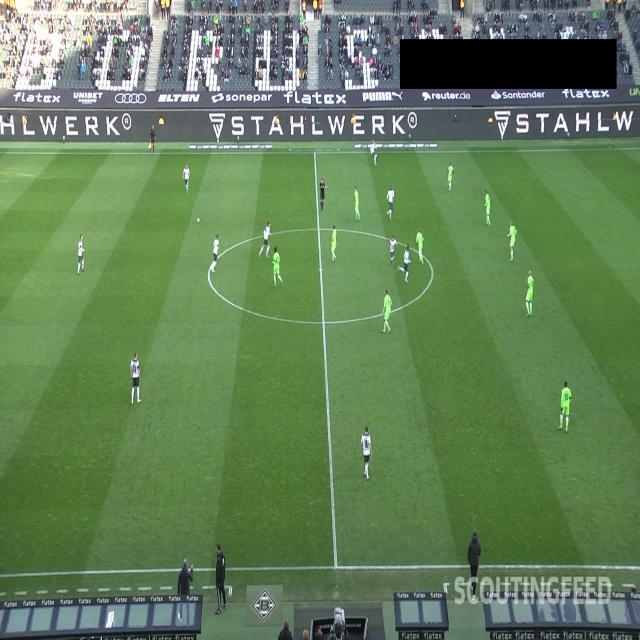ball: (196, 216, 200, 224)
player: (360, 424, 373, 481), (558, 380, 572, 432), (130, 351, 142, 405), (258, 220, 272, 260), (381, 289, 392, 334), (272, 246, 284, 287), (525, 269, 534, 318), (506, 220, 516, 262), (211, 234, 220, 272), (77, 233, 85, 274), (404, 244, 412, 283), (388, 235, 398, 266), (416, 227, 424, 265), (484, 190, 492, 227), (386, 184, 394, 220), (354, 186, 361, 221), (331, 224, 337, 262), (447, 160, 454, 192), (183, 163, 190, 194), (370, 139, 378, 166)
referee: (319, 177, 328, 212), (148, 124, 156, 152)
